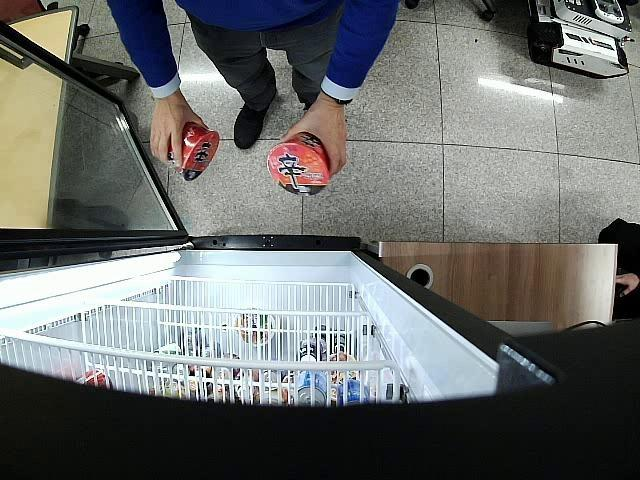01_ShinRamen_L: (267, 132, 330, 196), (169, 122, 220, 181)
